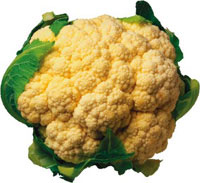cauliflower: (0, 1, 199, 182)
